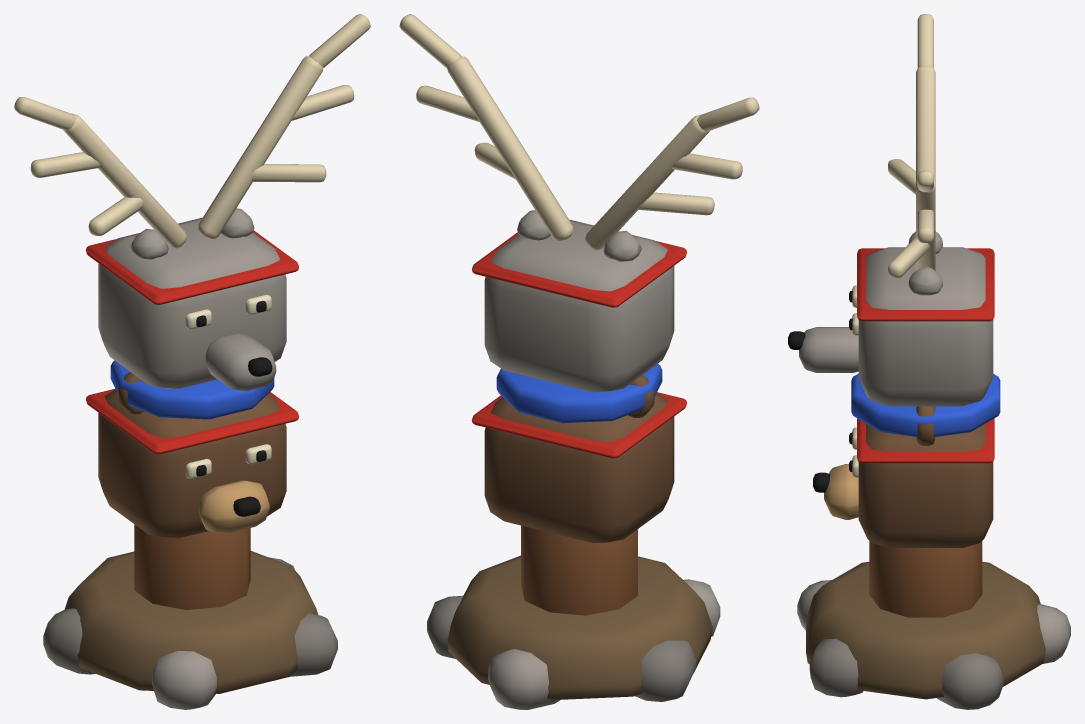
The model's file is WallCorner.glb.
3 renders of one model, left to right at view 1: azimuth 30°, elevation 25°; view 2: azimuth 150°, elevation 25°; view 3: azimuth 270°, elevation 25°, orthographic. The views are drawn at different scales.
Visible parts, largest first — view 1: WallCorner; view 2: WallCorner; view 3: WallCorner.
Part boxes in pixels (box(x1,y1,x2,y2)): WallCorner: box(14, 14, 370, 709); WallCorner: box(399, 14, 759, 709); WallCorner: box(788, 14, 1070, 709).
Bounding box in the file's own units: 1.24 × 2 × 0.9034.
